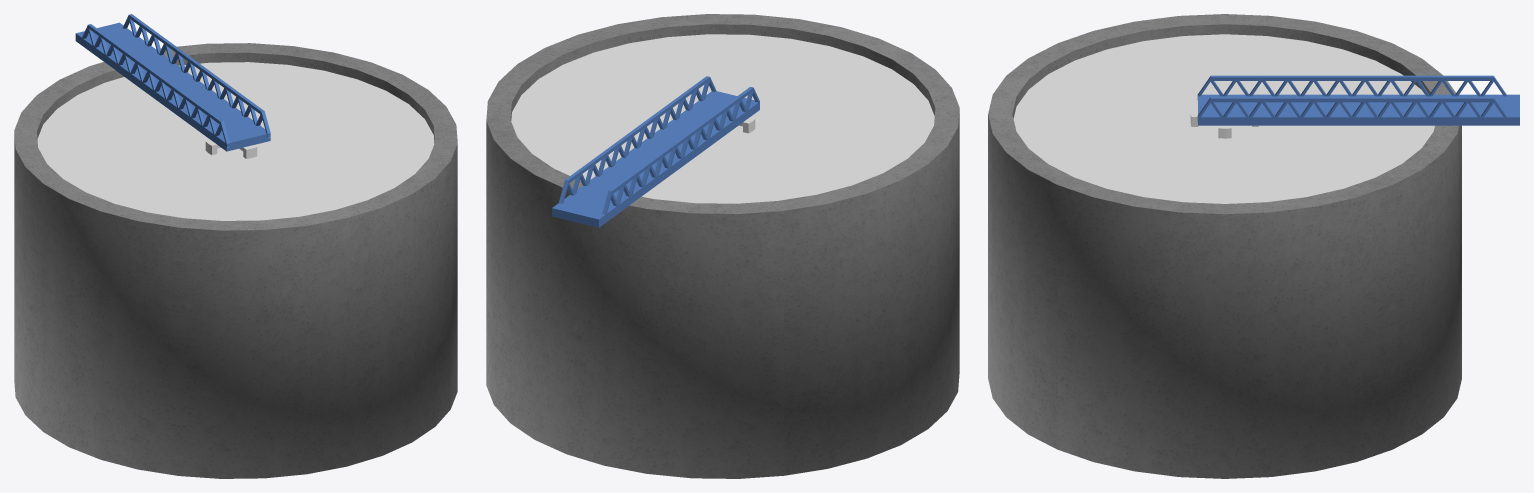
File: WaterPurifier.fbx
3 views of the same model, side by side, from view 1: azimuth 30°, elevation 25°; view 2: azimuth 150°, elevation 25°; view 3: azimuth 270°, elevation 25° (orthographic). The views are drawn at different scales.
Visible parts, largest first — view 1: WaterPurifierBasin, WaterPurifierWater, Spinner; view 2: WaterPurifierBasin, WaterPurifierWater, Spinner; view 3: WaterPurifierBasin, WaterPurifierWater, Spinner.
Boxes of the visible parts, x1=… form: WaterPurifierBasin: x1=14, y1=43, x2=457, y2=478; WaterPurifierWater: x1=37, y1=62, x2=434, y2=220; Spinner: x1=75, y1=14, x2=270, y2=158; WaterPurifierBasin: x1=486, y1=14, x2=959, y2=478; WaterPurifierWater: x1=511, y1=34, x2=934, y2=203; Spinner: x1=552, y1=76, x2=759, y2=227; WaterPurifierBasin: x1=988, y1=14, x2=1461, y2=478; WaterPurifierWater: x1=1013, y1=34, x2=1434, y2=203; Spinner: x1=1190, y1=75, x2=1519, y2=138.
Bounding box in the file's own units: 32 × 35.91 × 21.73.
